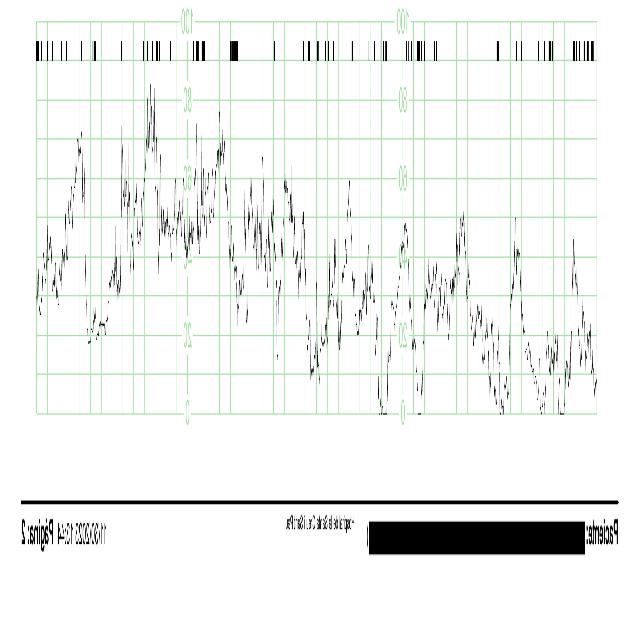contraction: (278, 178, 311, 374), (209, 114, 238, 314), (62, 135, 88, 346), (389, 222, 417, 415), (506, 218, 526, 394), (141, 93, 159, 278), (449, 218, 473, 355), (341, 193, 354, 355), (116, 135, 130, 276), (571, 257, 582, 405)
